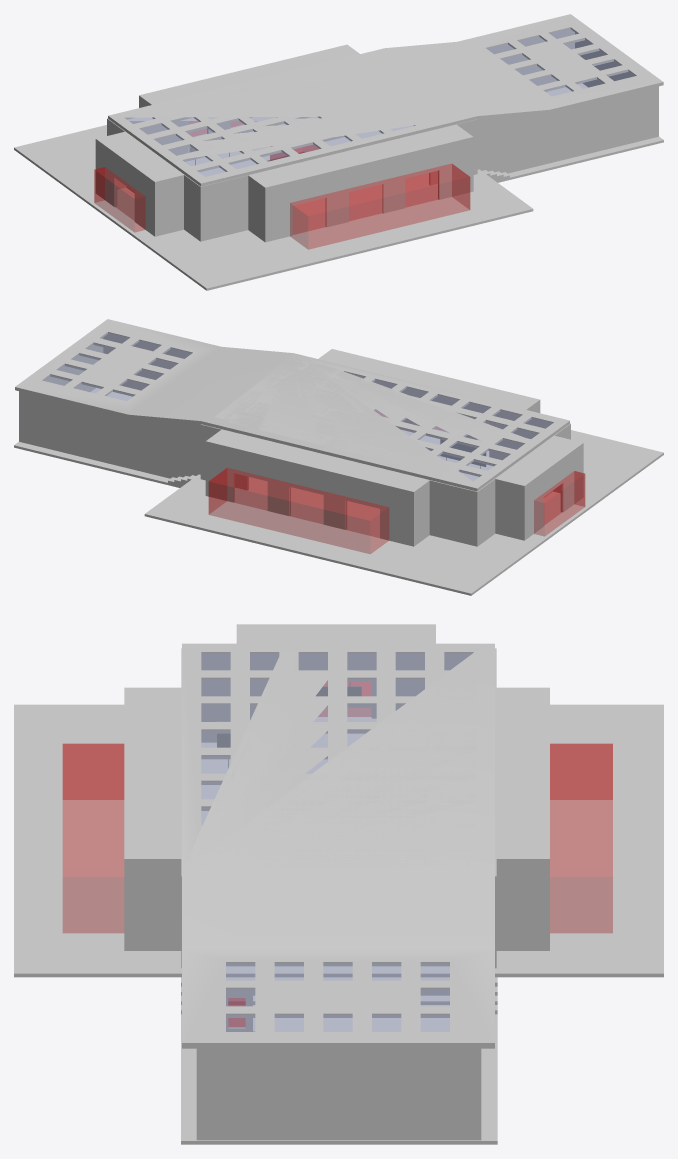
The model's file is Phong trung bay.fbx.
3 views of the same model, one above another, from view 1: azimuth 30°, elevation 25°; view 2: azimuth 150°, elevation 25°; view 3: azimuth 270°, elevation 25° (orthographic). The views are drawn at different scales.
Parts seen in each view (by area): view 1: pCube69, pCube58, pCube59, pCube64, pCube73, polySurface110, pCube63, pCube74; view 2: pCube69, pCube58, pCube59, pCube63, pCube72, polySurface110, pCube64, pCube74; view 3: pCube69, pCube58, pCube59, pCube64, pCube63, pCube72, pCube73, polySurface110, pCylinder6.
Boxes of the visible parts, <box> form: pCube69: <box>108,14,663,186</box>; pCube58: <box>14,83,663,290</box>; pCube59: <box>107,29,658,241</box>; pCube64: <box>248,124,473,242</box>; pCube73: <box>290,164,470,249</box>; polySurface110: <box>95,132,183,236</box>; pCube63: <box>139,44,359,133</box>; pCube74: <box>94,167,145,232</box>; pCube69: <box>15,319,569,491</box>; pCube58: <box>14,388,663,595</box>; pCube59: <box>19,334,570,546</box>; pCube63: <box>205,429,429,546</box>; pCube72: <box>208,468,388,553</box>; polySurface110: <box>495,435,583,540</box>; pCube64: <box>318,349,540,439</box>; pCube74: <box>534,471,585,536</box>; pCube69: <box>182,643,494,1048</box>; pCube58: <box>14,704,663,1144</box>; pCube59: <box>181,648,496,1140</box>; pCube64: <box>124,687,181,950</box>; pCube63: <box>496,687,549,950</box>; pCube72: <box>550,743,612,932</box>; pCube73: <box>62,743,124,932</box>; polySurface110: <box>236,624,435,718</box>; pCylinder6: <box>226,992,254,1031</box>.
Size of the model in its own units: 38.78 by 5.22 by 25.55.
